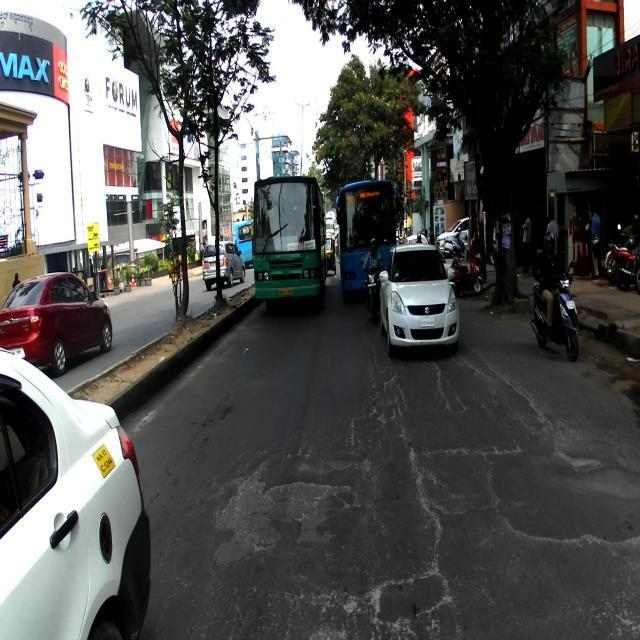Pothole: (377, 374, 640, 640), (213, 437, 371, 626)
